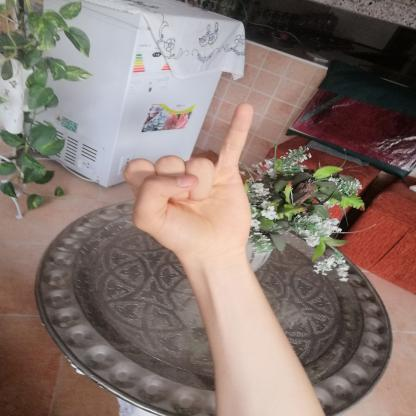MEEM: (112, 94, 264, 272)
